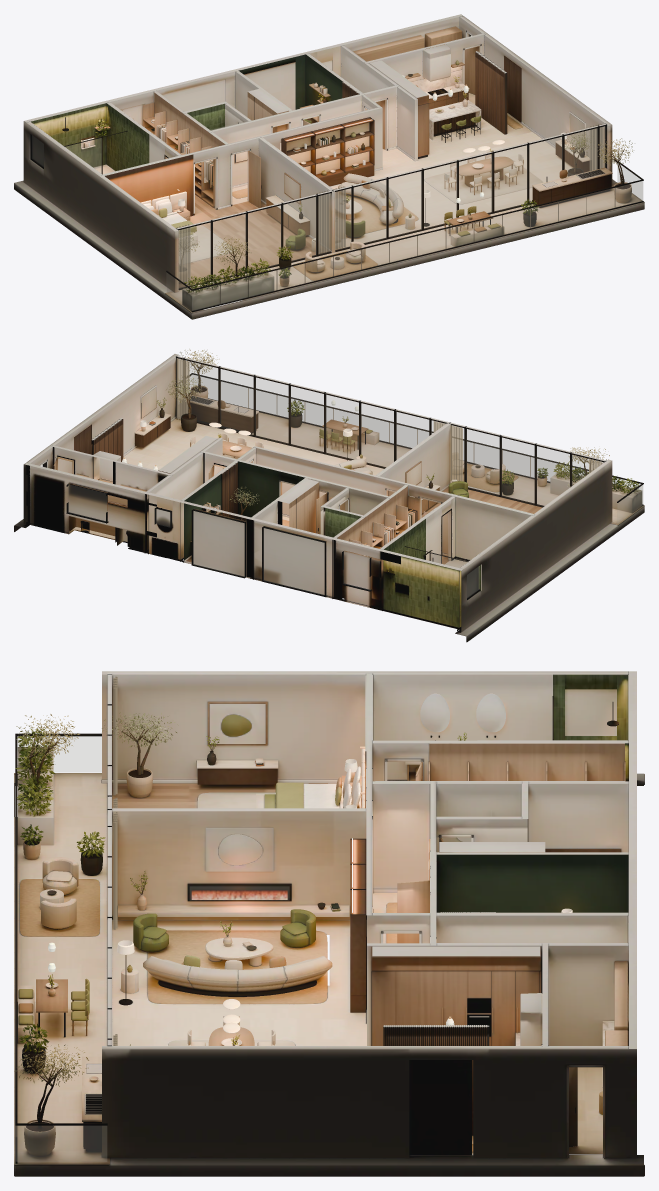
File: tipo-2048.glb
The picture shows the model from 3 angles, top to bottom: view 1: azimuth 30°, elevation 25°; view 2: azimuth 150°, elevation 25°; view 3: azimuth 270°, elevation 25°; orthographic projection. The views are drawn at different scales.
Visible parts, largest first — view 1: casco, itens, vidro, folhas.012, cortinas; view 2: casco, itens, vidro, folhas.012, cortinas; view 3: casco, itens, folhas.012, vidro, cortinas.
Boxes of the visible parts, bbox=[...] form: casco: bbox=[14, 14, 644, 319]; itens: bbox=[30, 26, 643, 312]; vidro: bbox=[32, 124, 643, 310]; folhas.012: bbox=[95, 76, 632, 293]; cortinas: bbox=[176, 123, 603, 284]; casco: bbox=[14, 354, 644, 642]; itens: bbox=[53, 355, 643, 608]; vidro: bbox=[68, 362, 643, 597]; folhas.012: bbox=[156, 349, 639, 578]; cortinas: bbox=[176, 358, 602, 481]; casco: bbox=[14, 671, 644, 1176]; itens: bbox=[15, 674, 628, 1163]; folhas.012: bbox=[14, 712, 466, 1086]; vidro: bbox=[16, 736, 289, 1161]; cortinas: bbox=[113, 676, 117, 1045].
Bounding box in the file's own units: 23.32 × 3.35 × 15.8.
5 materials, 2 textured.
